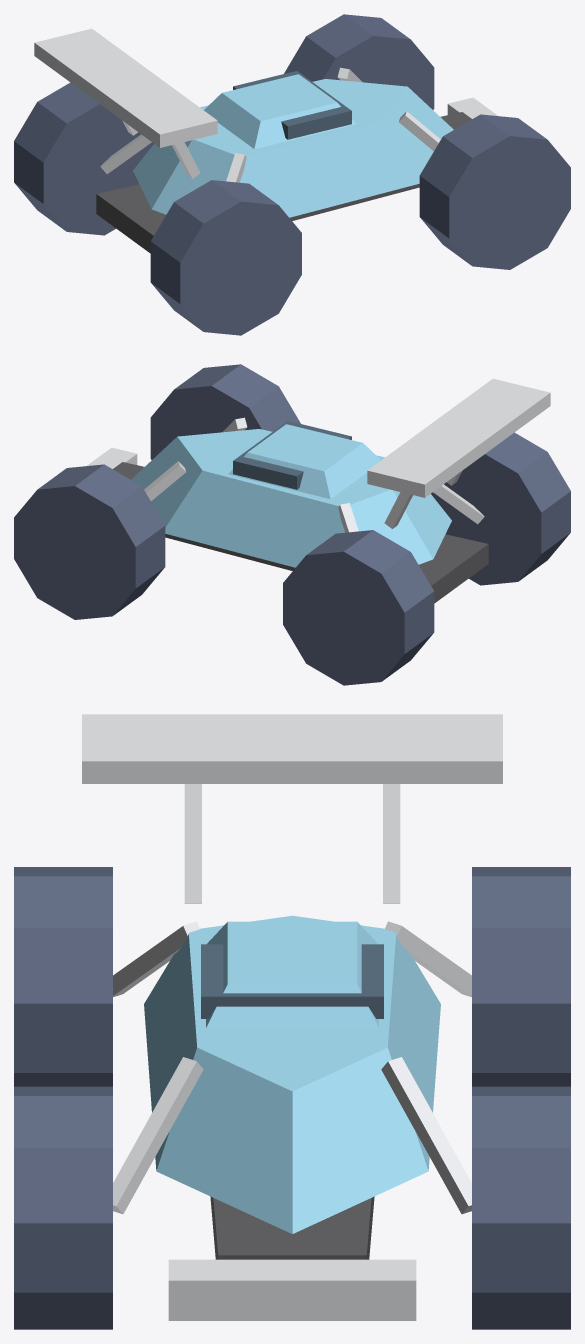
The model's file is car_truggy.glb.
The picture shows the model from 3 angles, top to bottom: view 1: azimuth 30°, elevation 25°; view 2: azimuth 150°, elevation 25°; view 3: azimuth 270°, elevation 25°; orthographic projection. The views are drawn at different scales.
Bounding box in the file's own units: 0.3225 × 0.15 × 0.225.
